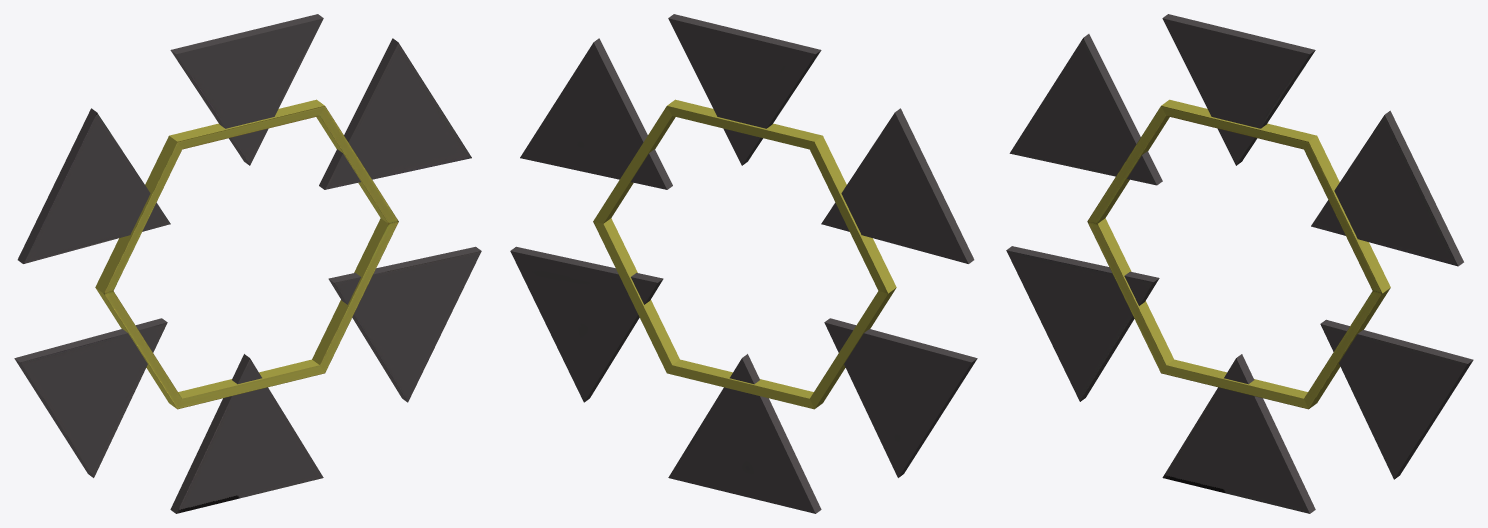
The model's file is Metroid_PowerDoor_280123.fbx.
3 renders of one model, left to right at view 1: azimuth 30°, elevation 25°; view 2: azimuth 150°, elevation 25°; view 3: azimuth 330°, elevation 25°, orthographic.
Parts seen in each view (by area): view 1: DoorFrame, DoorTriangle, DoorTriangle.003, DoorTriangle.001, DoorTriangle.004, DoorTriangle.005, DoorTriangle.002; view 2: DoorFrame, DoorTriangle, DoorTriangle.003, DoorTriangle.001, DoorTriangle.004, DoorTriangle.005, DoorTriangle.002; view 3: DoorFrame, DoorTriangle, DoorTriangle.001, DoorTriangle.003, DoorTriangle.005, DoorTriangle.004, DoorTriangle.002.
Part boxes in pixels (left/top/right/bottom): DoorFrame: left=95, top=99, right=398, bottom=409; DoorTriangle: left=170, top=354, right=323, bottom=513; DoorTriangle.003: left=14, top=318, right=167, bottom=477; DoorTriangle.001: left=328, top=246, right=481, bottom=402; DoorTriangle.004: left=17, top=108, right=170, bottom=263; DoorTriangle.005: left=319, top=38, right=471, bottom=189; DoorTriangle.002: left=170, top=14, right=323, bottom=165; DoorFrame: left=593, top=99, right=896, bottom=409; DoorTriangle: left=668, top=354, right=821, bottom=513; DoorTriangle.003: left=824, top=318, right=977, bottom=477; DoorTriangle.001: left=510, top=246, right=663, bottom=402; DoorTriangle.004: left=821, top=108, right=974, bottom=263; DoorTriangle.005: left=520, top=38, right=672, bottom=189; DoorTriangle.002: left=668, top=14, right=821, bottom=165; DoorFrame: left=1087, top=99, right=1390, bottom=409; DoorTriangle: left=1162, top=354, right=1315, bottom=513; DoorTriangle.001: left=1320, top=319, right=1473, bottom=479; DoorTriangle.003: left=1006, top=246, right=1159, bottom=401; DoorTriangle.005: left=1311, top=110, right=1463, bottom=266; DoorTriangle.004: left=1009, top=34, right=1162, bottom=185; DoorTriangle.002: left=1162, top=14, right=1315, bottom=165.
Bounding box in the file's own units: 429 × 409 × 13.57.
1 material, 1 textured.
